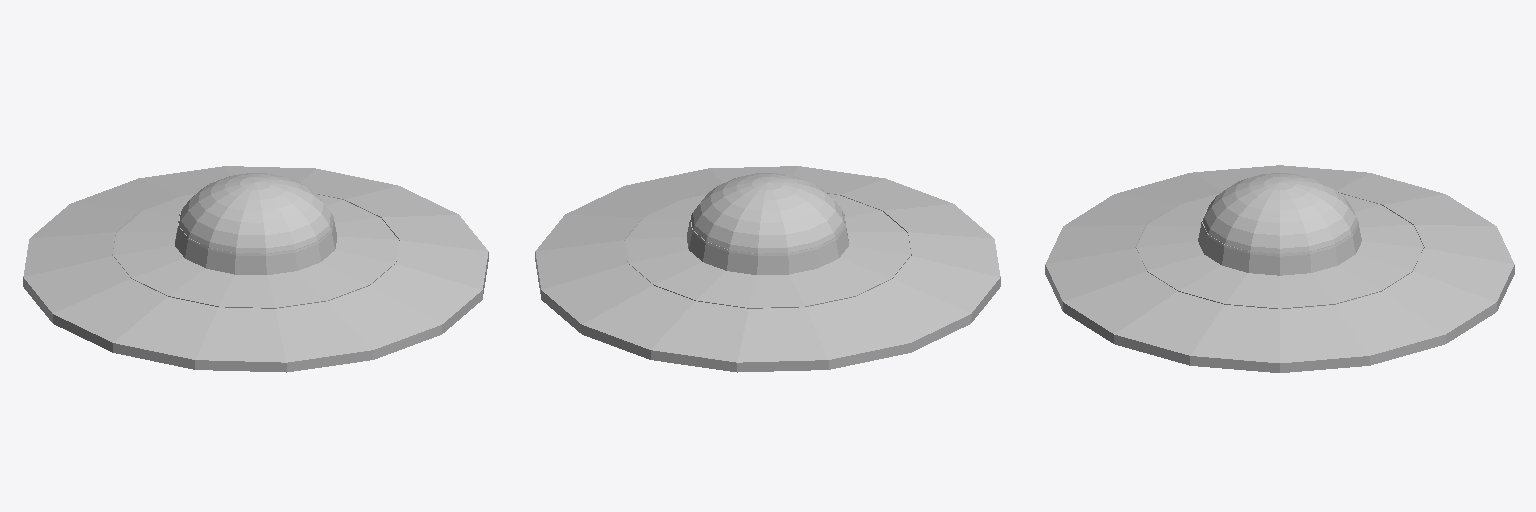
The model's file is ufo.obj.
3 renders of one model, left to right at view 1: azimuth 30°, elevation 25°; view 2: azimuth 150°, elevation 25°; view 3: azimuth 270°, elevation 25°, orthographic.
Parts seen in each view (by area): view 1: Sphere; view 2: Sphere; view 3: Sphere.
Boxes of the visible parts, <box> form: Sphere: <box>23,166,488,372</box>; Sphere: <box>535,166,1000,372</box>; Sphere: <box>1045,165,1514,372</box>.
Size of the model in its own units: 9.84 by 3.42 by 9.84.